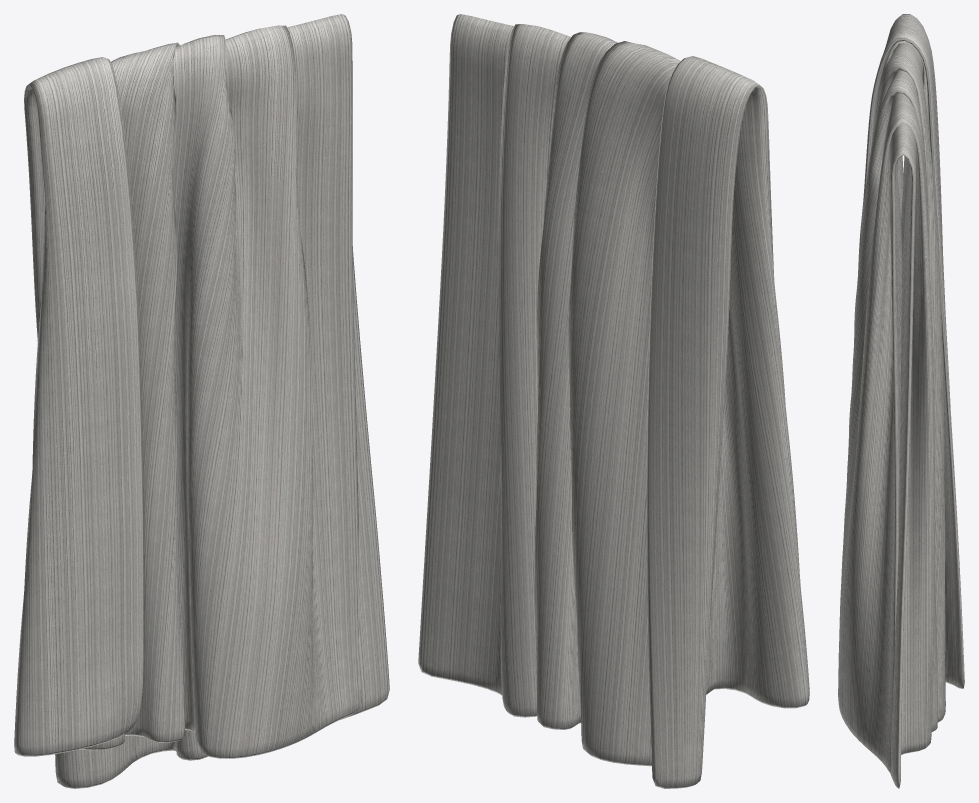
File: towel_compressed.glb
3 renders of one model, left to right at view 1: azimuth 30°, elevation 25°; view 2: azimuth 150°, elevation 25°; view 3: azimuth 270°, elevation 25°, orthographic. The views are drawn at different scales.
Visible parts, largest first — view 1: Material2.502; view 2: Material2.502; view 3: Material2.502.
Boxes of the visible parts, x1=… form: Material2.502: x1=14, y1=14, x2=389, y2=788; Material2.502: x1=418, y1=14, x2=809, y2=788; Material2.502: x1=838, y1=14, x2=964, y2=788.
Size of the model in its own units: 0.3447 by 0.6213 by 0.1089.
1 material, 1 textured.
